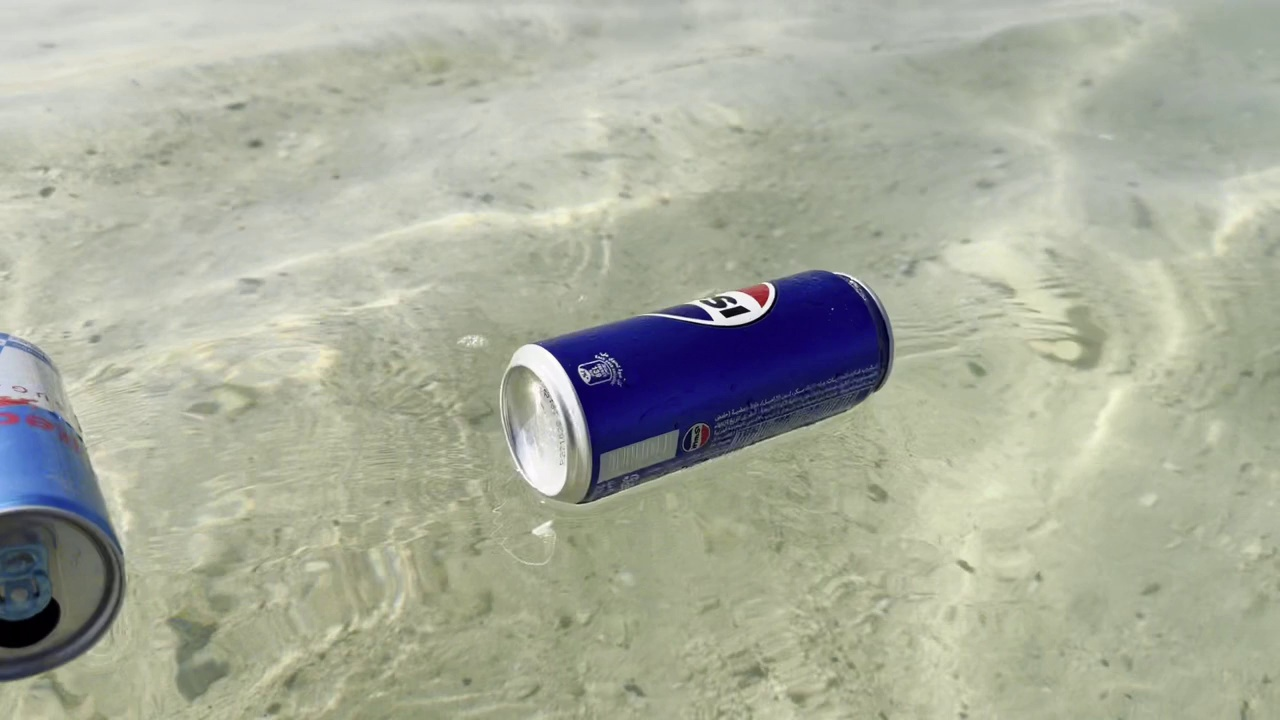debris: (483, 250, 919, 514), (0, 323, 124, 692)
